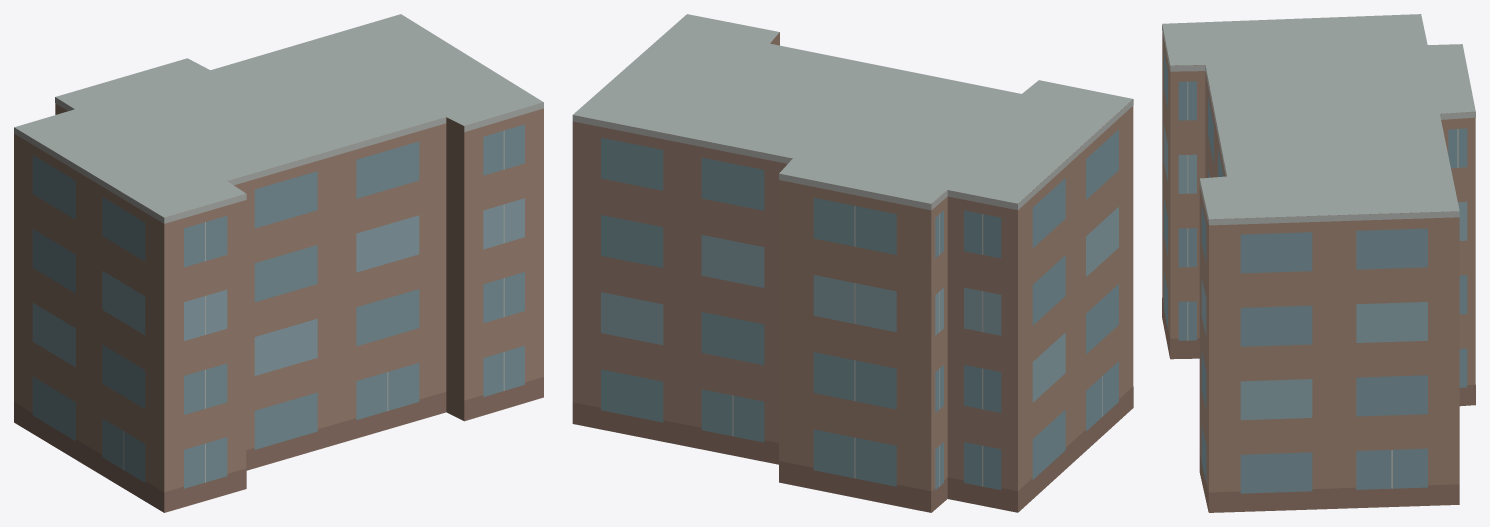
The model's file is survey-upis-32756415.glb.
The picture shows the model from 3 angles, left to right: view 1: azimuth 30°, elevation 25°; view 2: azimuth 150°, elevation 25°; view 3: azimuth 270°, elevation 25°; orthographic projection. The views are drawn at different scales.
Parts seen in each view (by area): view 1: survey-upis-32756415.tmp; view 2: survey-upis-32756415.tmp; view 3: survey-upis-32756415.tmp.
Part boxes in pixels (x1,y1,x2,y2): survey-upis-32756415.tmp: (14, 14, 543, 512); survey-upis-32756415.tmp: (572, 14, 1133, 512); survey-upis-32756415.tmp: (1162, 14, 1475, 512).
Size of the model in its own units: 17.56 by 11.7 by 11.34.
